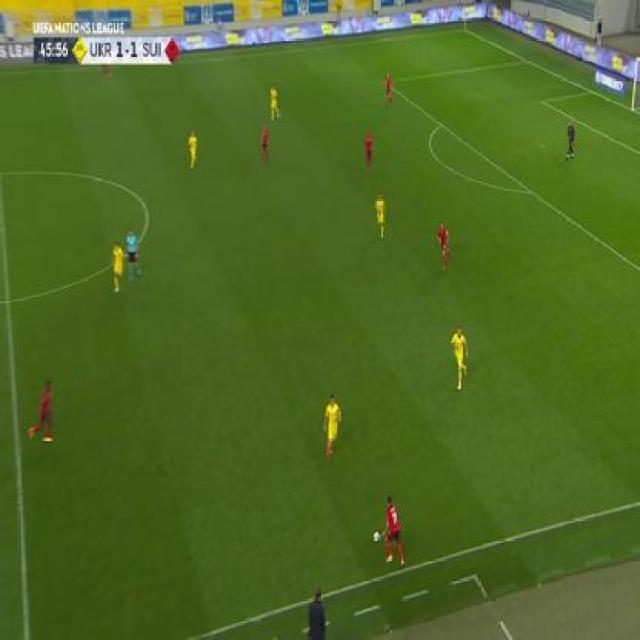ball: (372, 530, 380, 543)
player: (381, 493, 406, 570), (29, 379, 55, 447), (302, 586, 330, 640), (322, 392, 342, 460), (450, 324, 470, 392), (125, 228, 141, 284), (436, 219, 452, 273), (111, 239, 125, 296), (375, 192, 386, 240), (186, 129, 199, 169), (564, 122, 577, 161), (268, 85, 281, 121), (259, 123, 270, 165), (363, 130, 374, 172), (383, 70, 394, 110)
